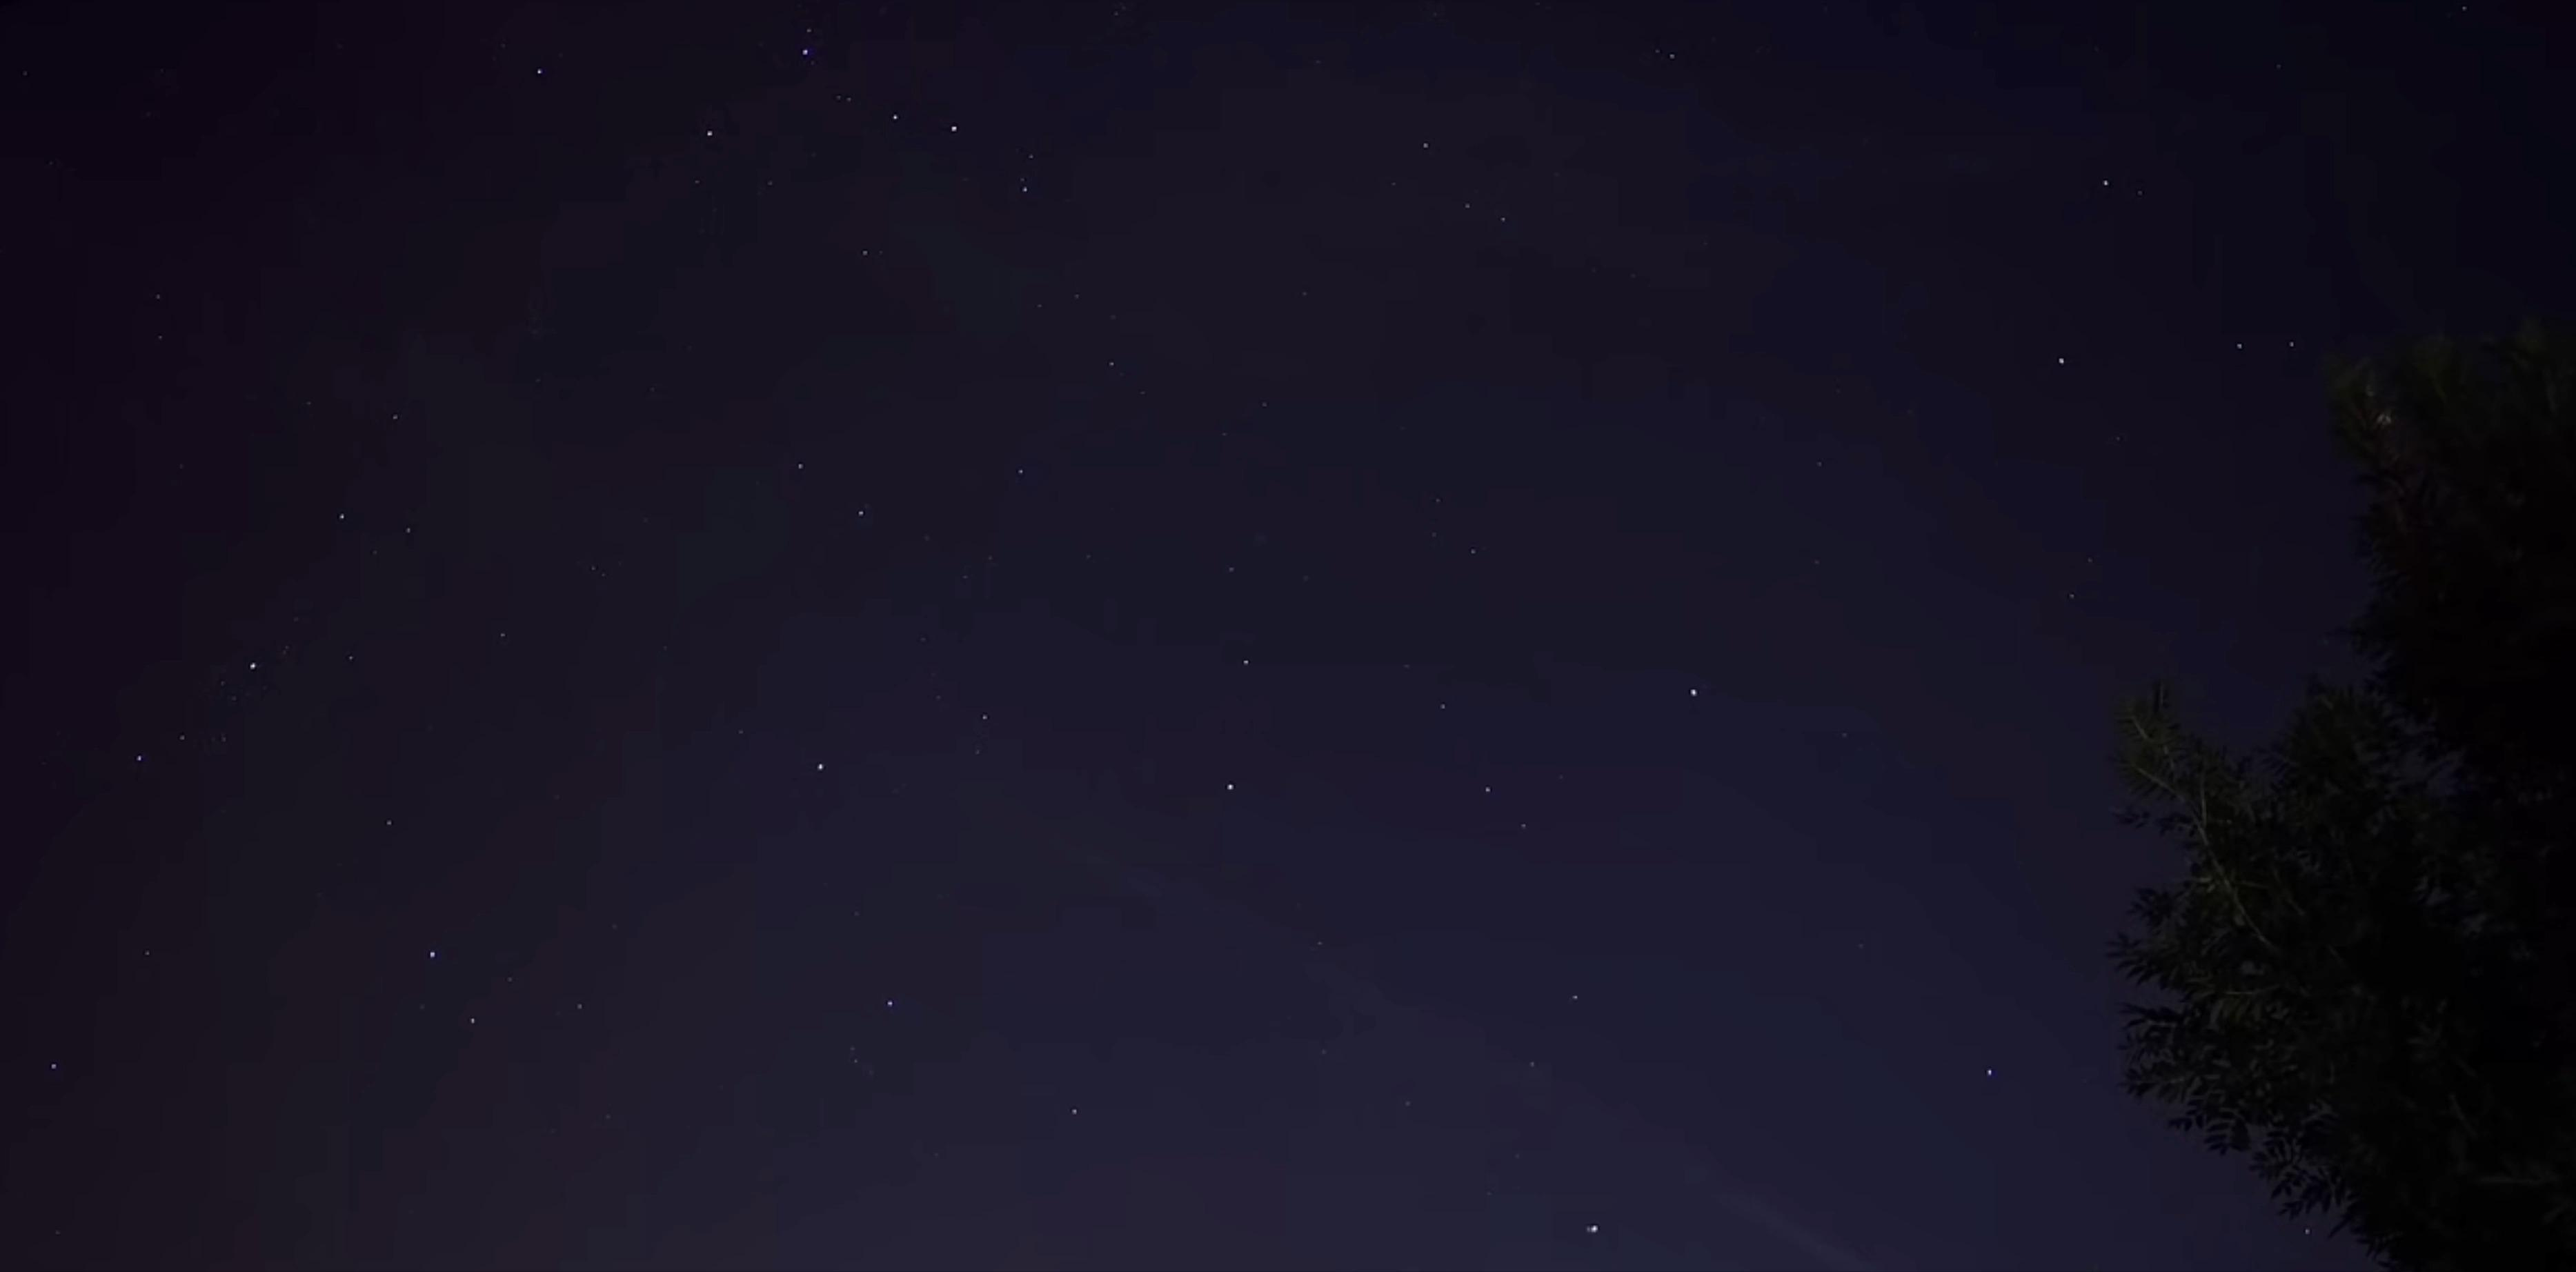Plane: (1572, 1206, 1617, 1254)
